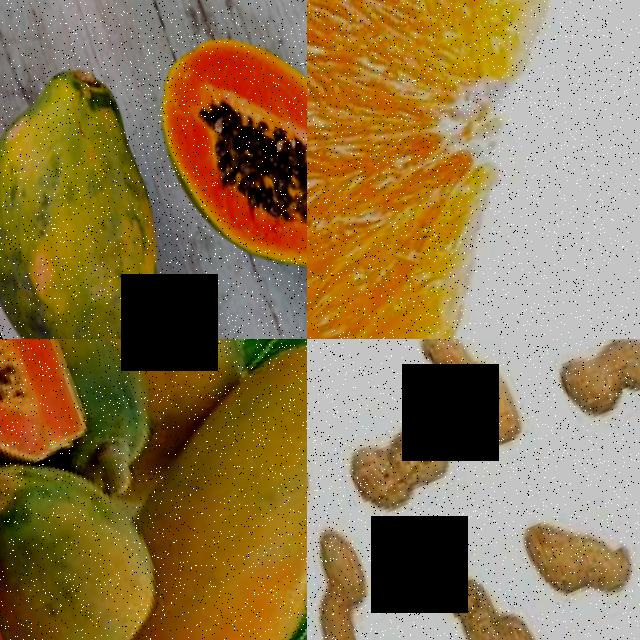orange: (307, 0, 640, 339)
pawpaw: (0, 49, 207, 339), (135, 0, 307, 324), (124, 339, 307, 640), (0, 458, 180, 640), (0, 339, 87, 482)
peanuts: (514, 486, 640, 626), (410, 339, 535, 471), (337, 408, 469, 531), (438, 554, 565, 640), (307, 520, 397, 640), (550, 339, 640, 439)
